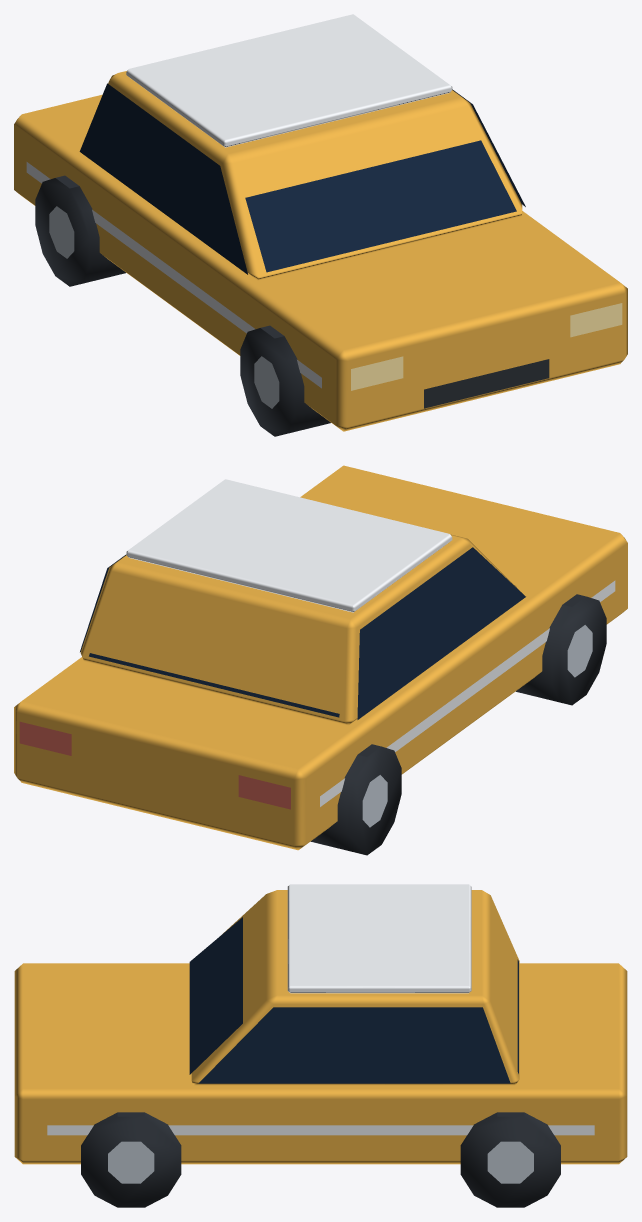
File: CM_Prop_ParkedCar_Yellow.fbx
The picture shows the model from 3 angles, top to bottom: view 1: azimuth 30°, elevation 25°; view 2: azimuth 150°, elevation 25°; view 3: azimuth 270°, elevation 25°; orthographic projection. The views are drawn at different scales.
Parts seen in each view (by area): view 1: Body; view 2: Body; view 3: Body.
Part boxes in pixels (left/top/right/bottom): Body: left=14, top=14, right=627, bottom=436; Body: left=14, top=465, right=627, bottom=855; Body: left=14, top=884, right=627, bottom=1207.
Size of the model in its own units: 6 by 11 by 4.
Materials: 1 (1 with a texture image).
